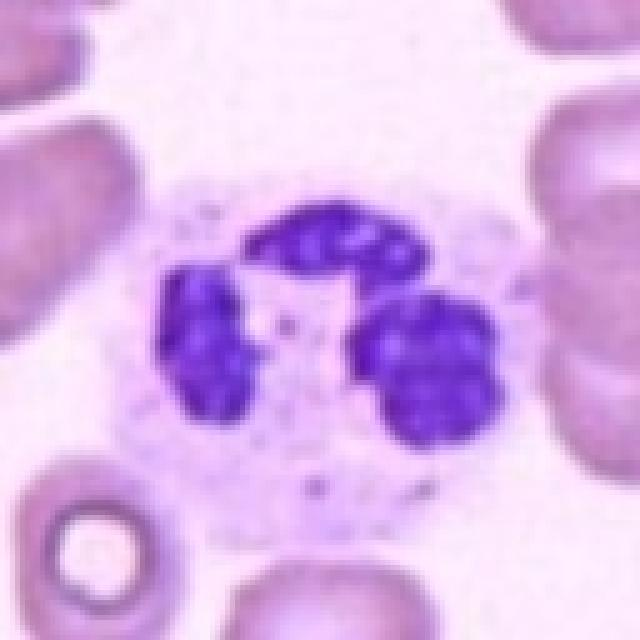neutro: (54, 73, 531, 532)
